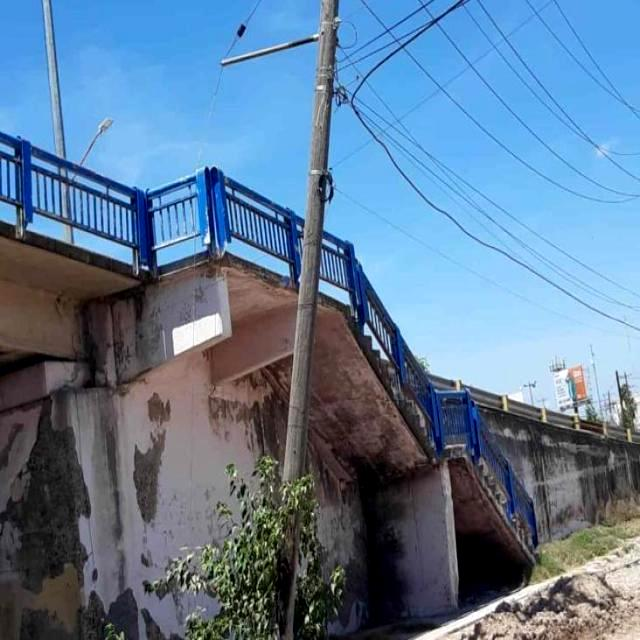Broken Pole: (221, 0, 339, 640)
